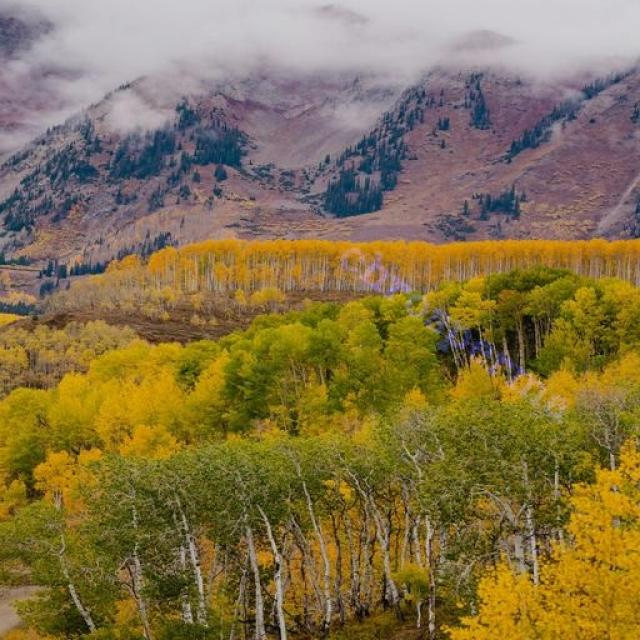watermark: (326, 227, 593, 432)
